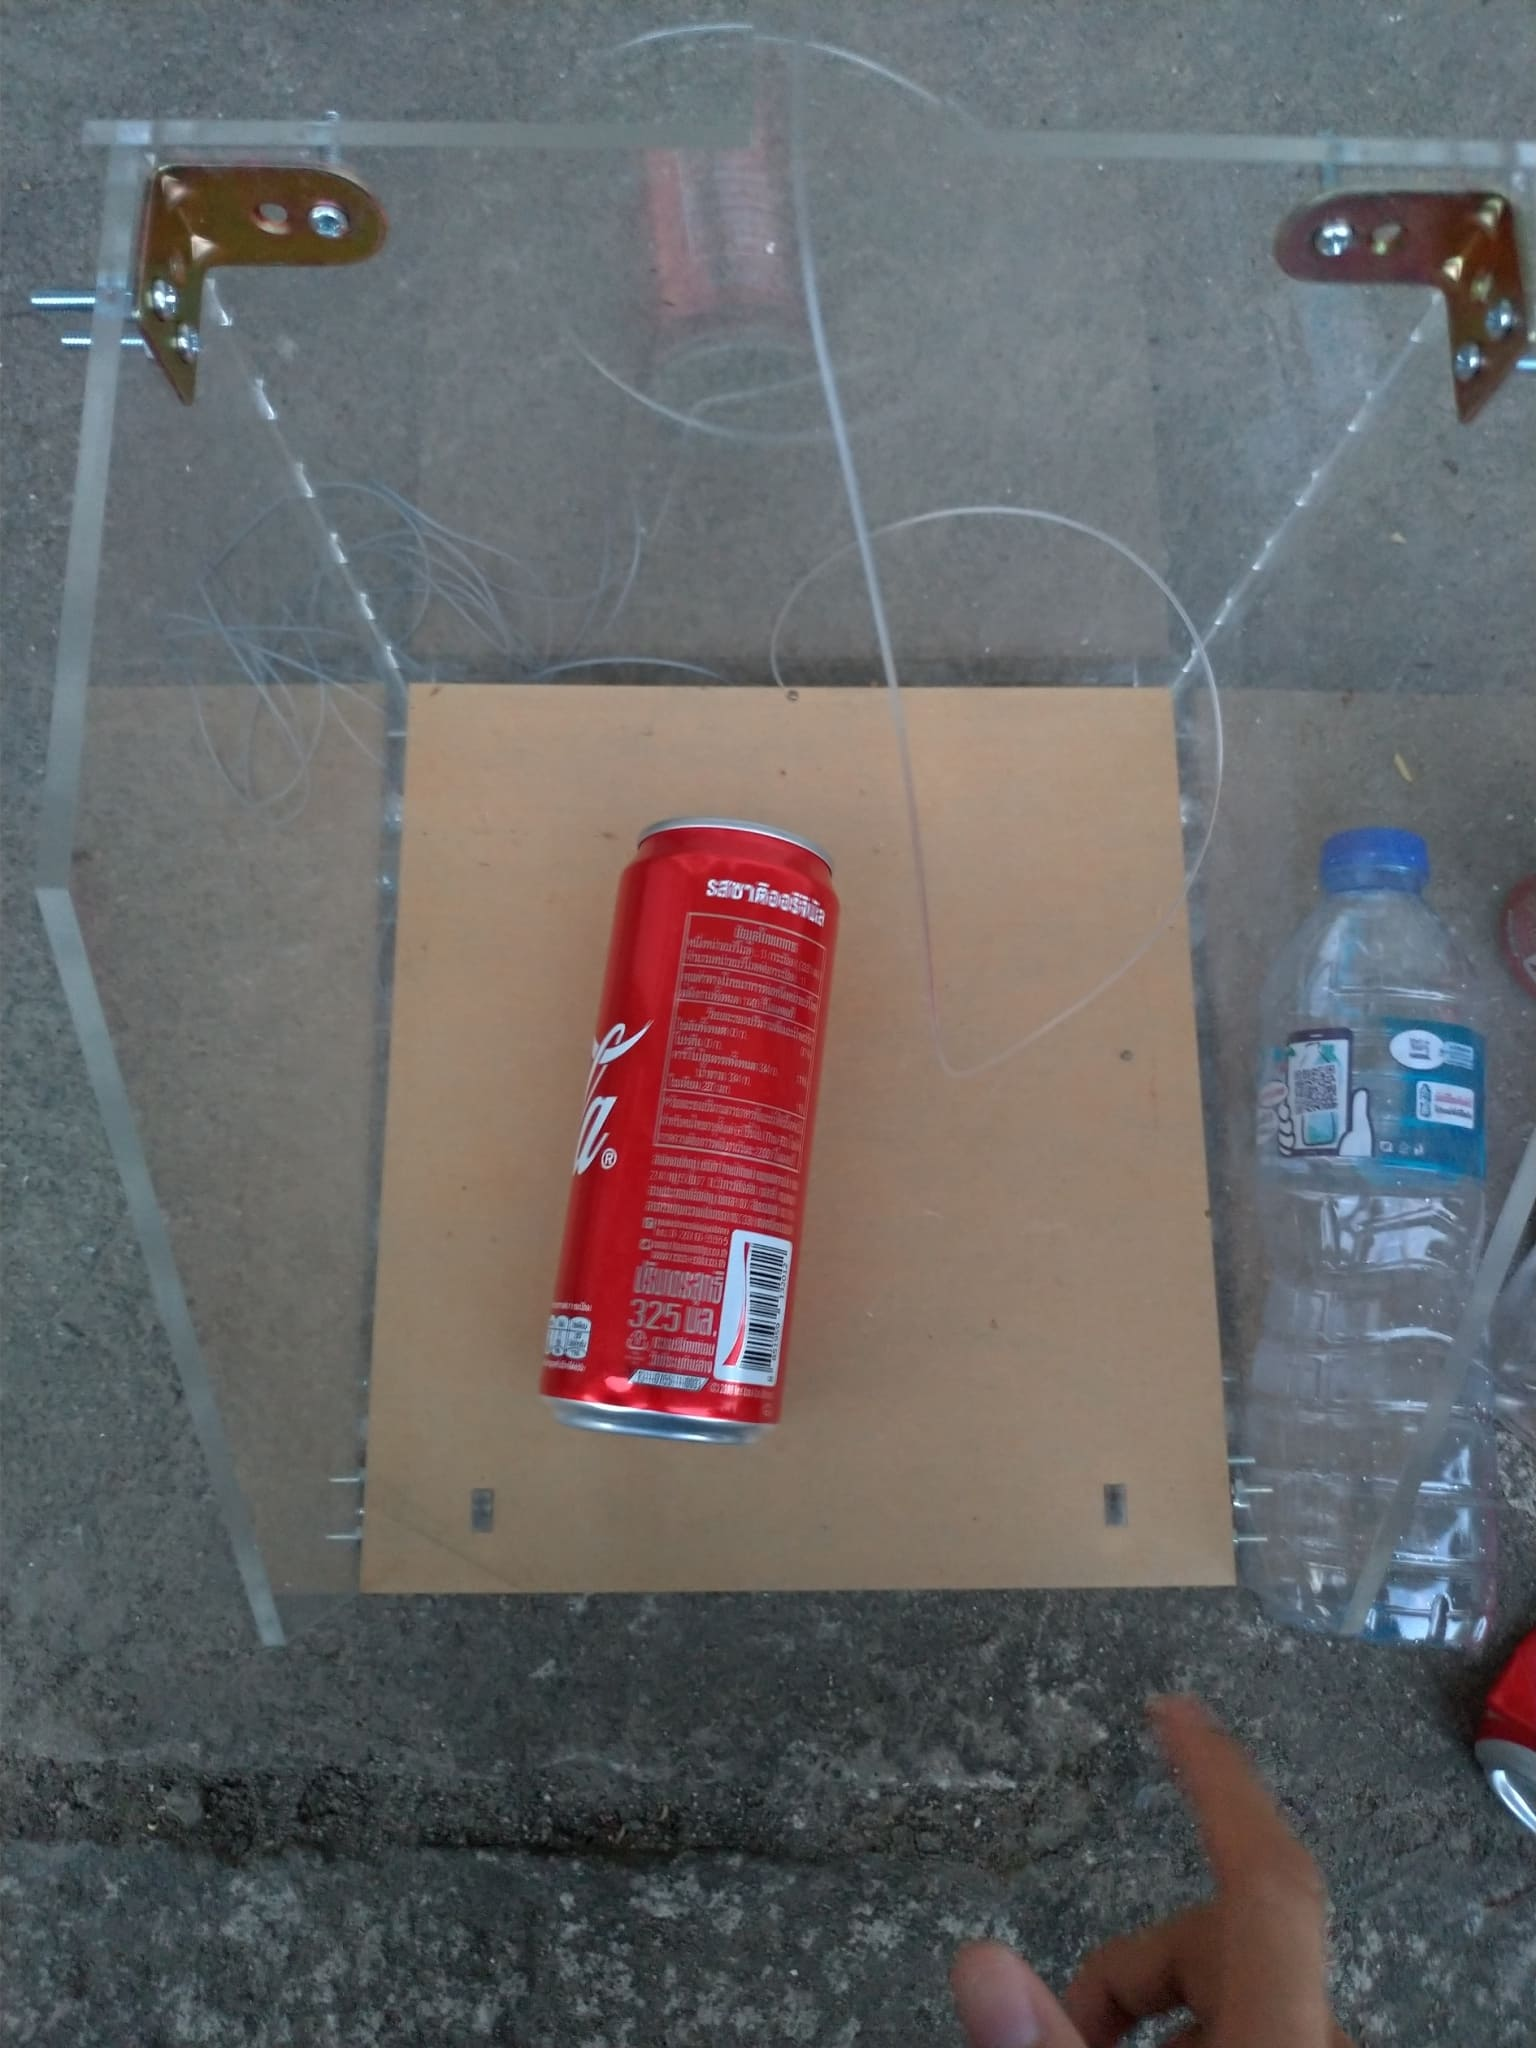AlCan: (544, 814, 841, 1442)
PlasticBottle: (1234, 827, 1494, 1658)
